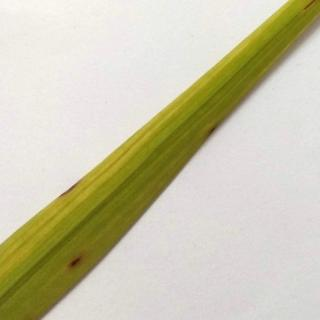Bercak-Cokelat-Sempit: (57, 250, 87, 274), (202, 120, 220, 138)
